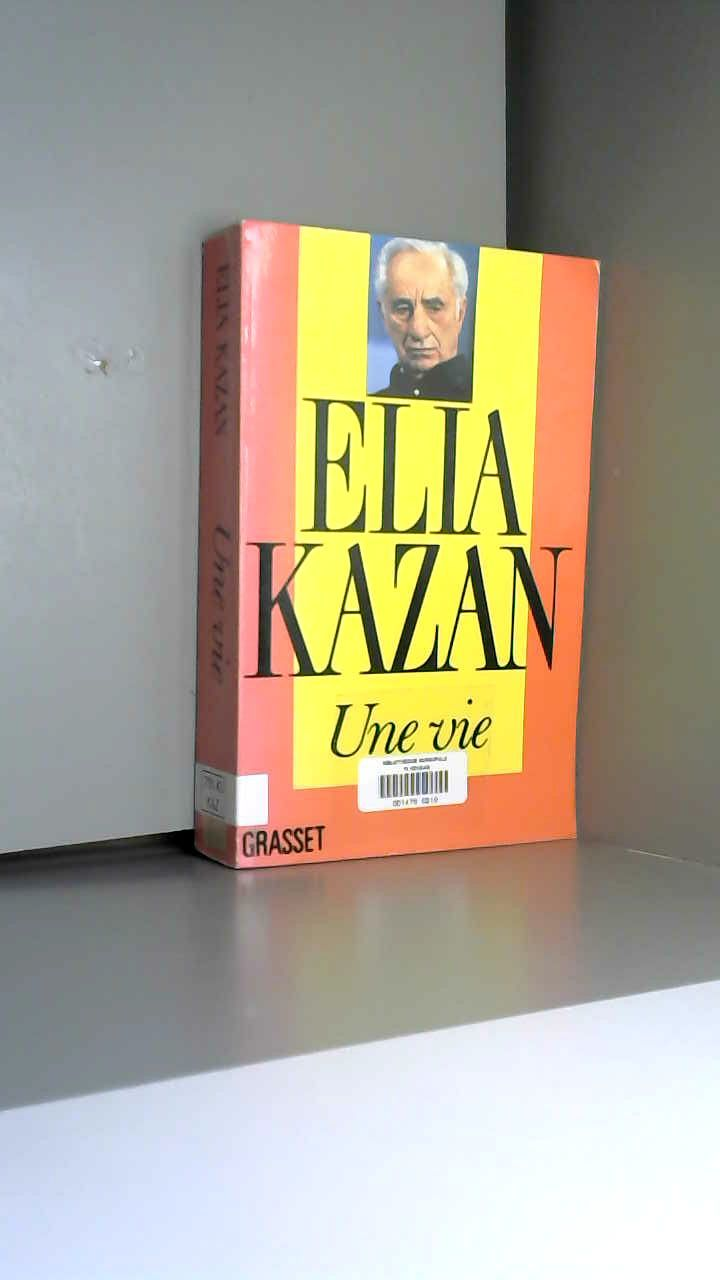book: (155, 172, 638, 924)
